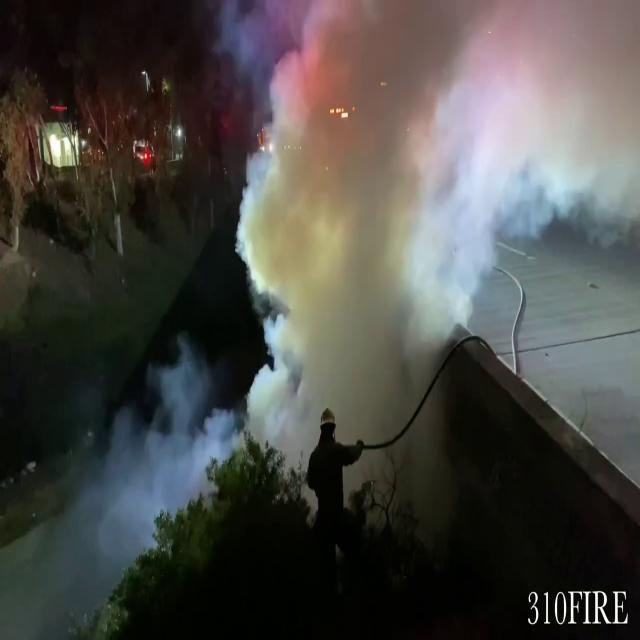Smoke: (204, 1, 542, 516), (16, 322, 222, 640)
